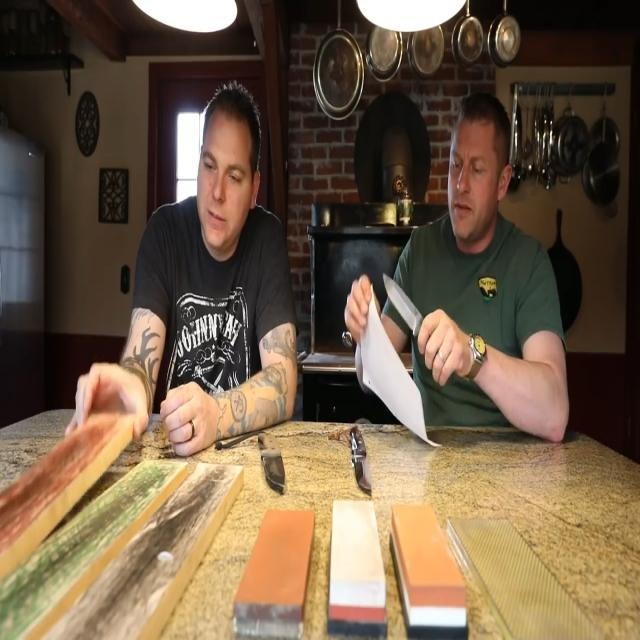knife: (381, 267, 425, 336), (257, 430, 289, 494), (348, 422, 374, 496)
